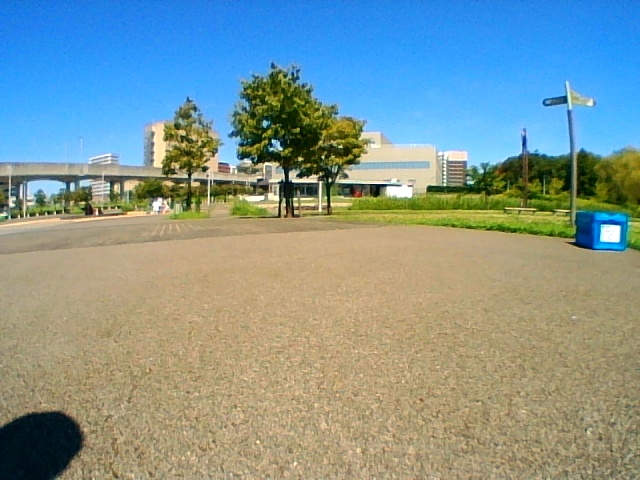blue_box: (578, 213, 626, 250)
tag: (601, 224, 619, 243)
